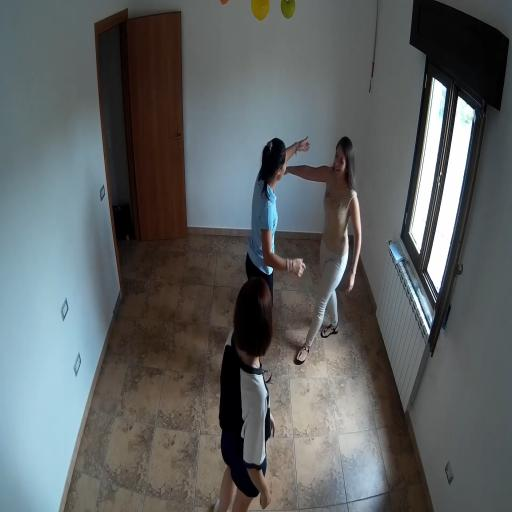nao-violencia: (243, 102, 367, 369)
